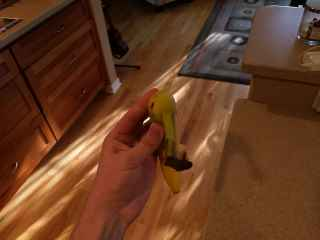banana: (140, 84, 198, 200)
